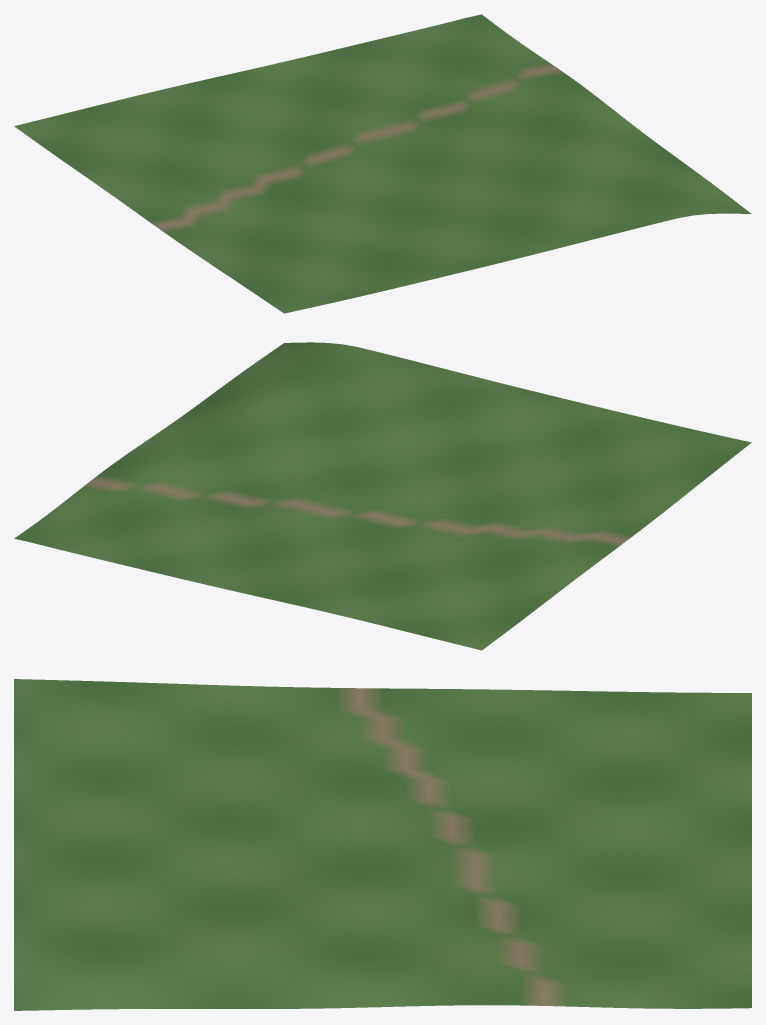
Rendered from chunk_4_8.glb.
The picture shows the model from 3 angles, top to bottom: view 1: azimuth 30°, elevation 25°; view 2: azimuth 150°, elevation 25°; view 3: azimuth 270°, elevation 25°; orthographic projection. The views are drawn at different scales.
Size of the model in its own units: 512 by 15.39 by 512.
